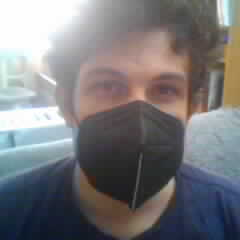with_mask: (74, 24, 189, 200)
